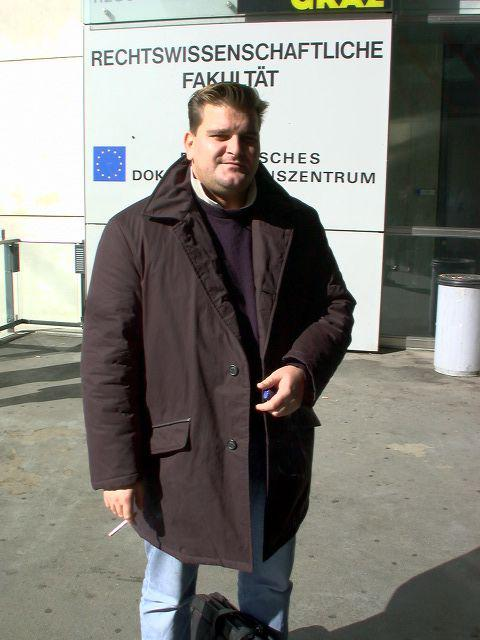Person: (74, 83, 361, 640)
